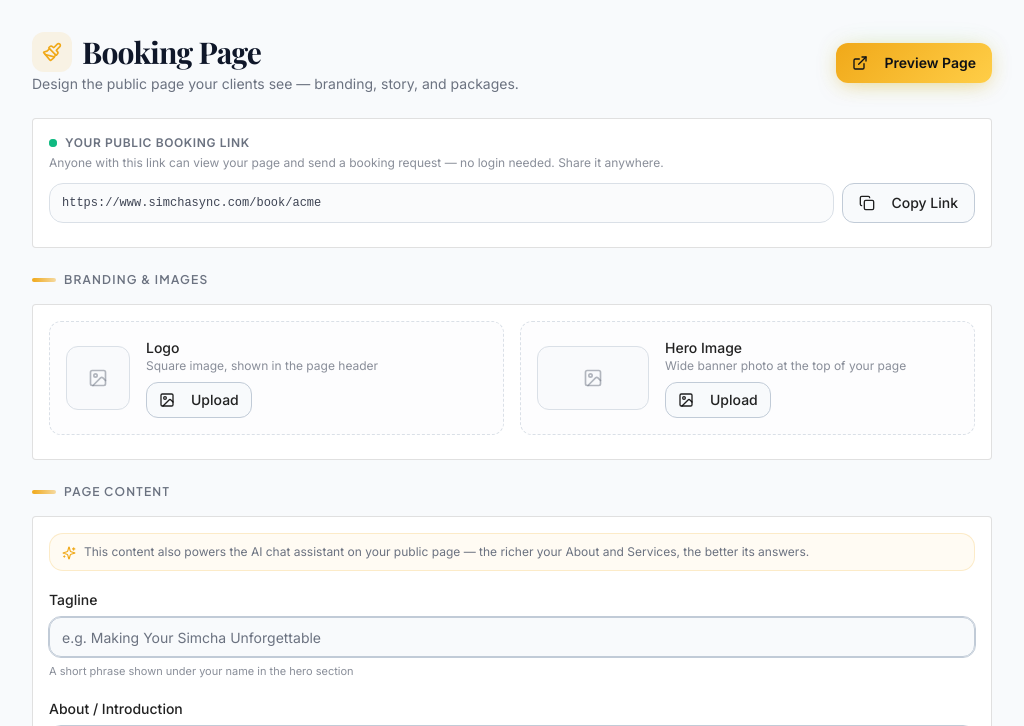
Test: LandingPageEditor › shows the public booking link and copies it
The width and height of the screenshot is (1024, 726).
Expected: the text "https://www.simchasync.com/book/acme" is shown, [62,196,321,210]
Click the button "Copy Link" at (909, 203), box [842,183,975,223]
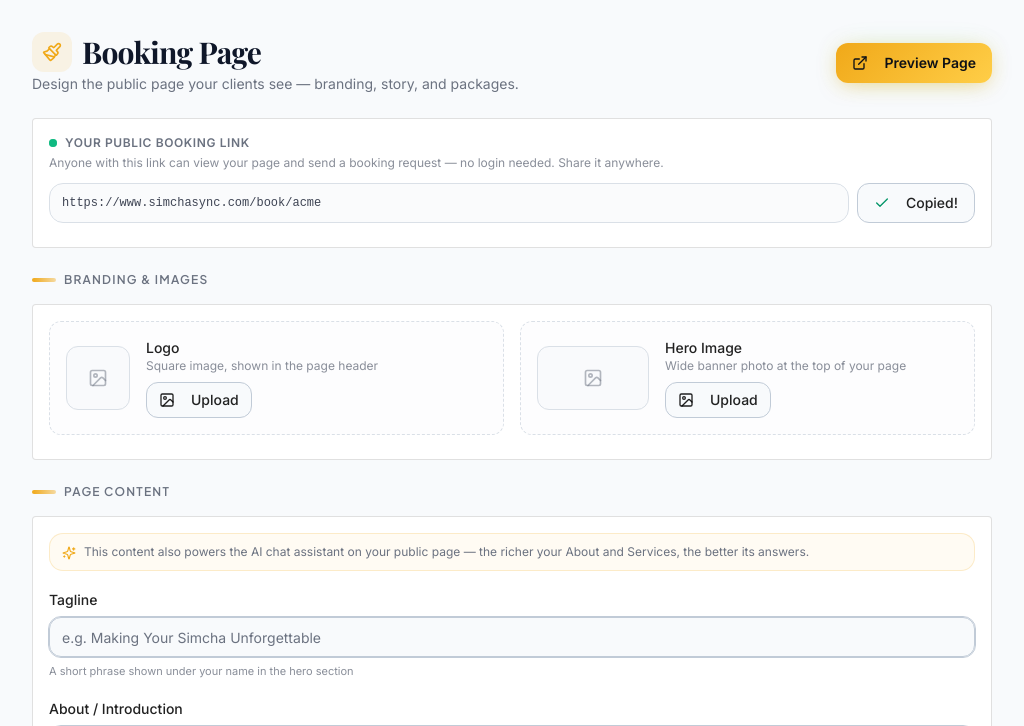
Now the button "Copied!" is shown, box [857,183,975,223]
